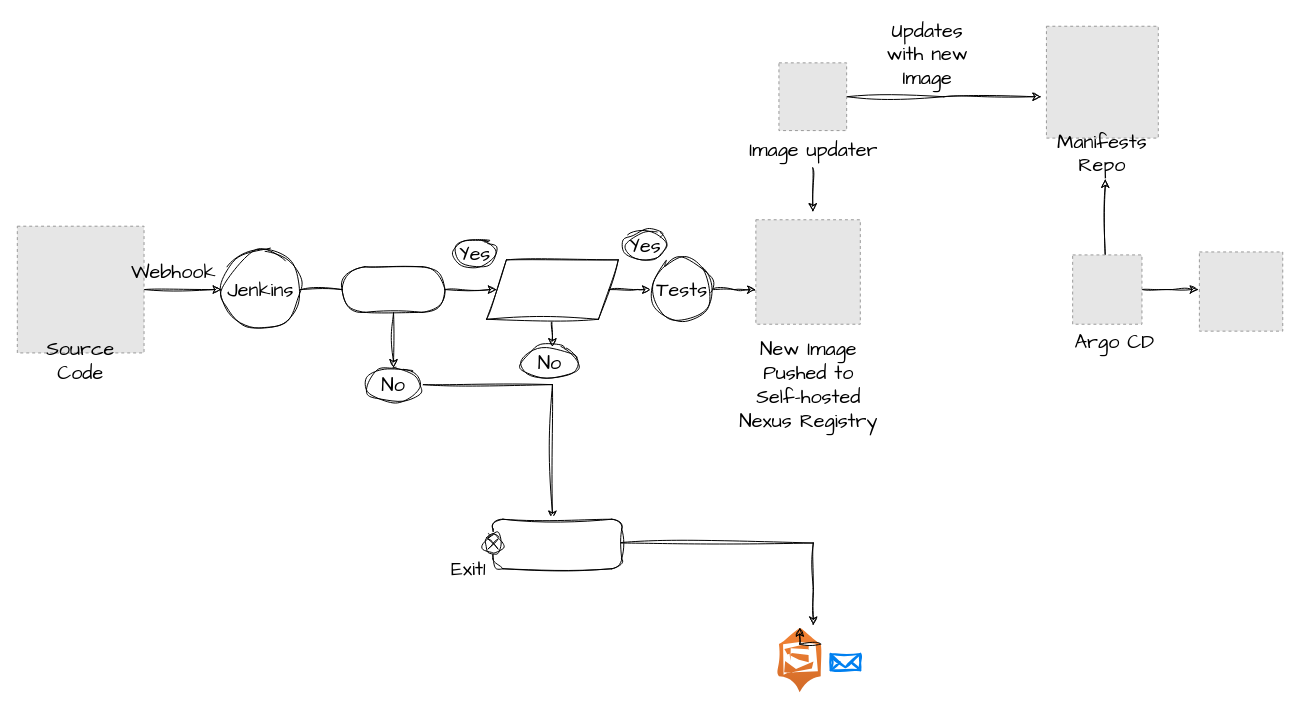
This 1301x710 diagram has some shape labels left out. Grey dashed boxes stand in for pictures. The centre of each missing label's shape, as x and y in pixels:
Maven: the point at 393,289
Report: the point at 552,543
SonarQube: the point at 552,289
